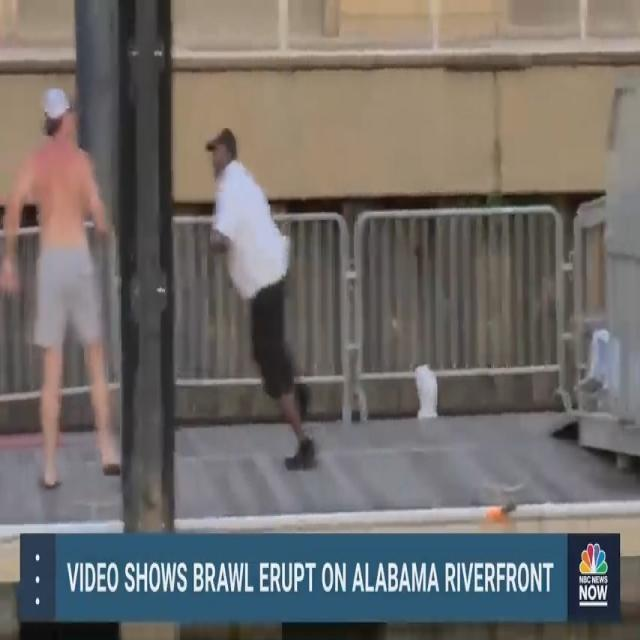fight: (0, 79, 128, 482), (199, 107, 329, 487)
